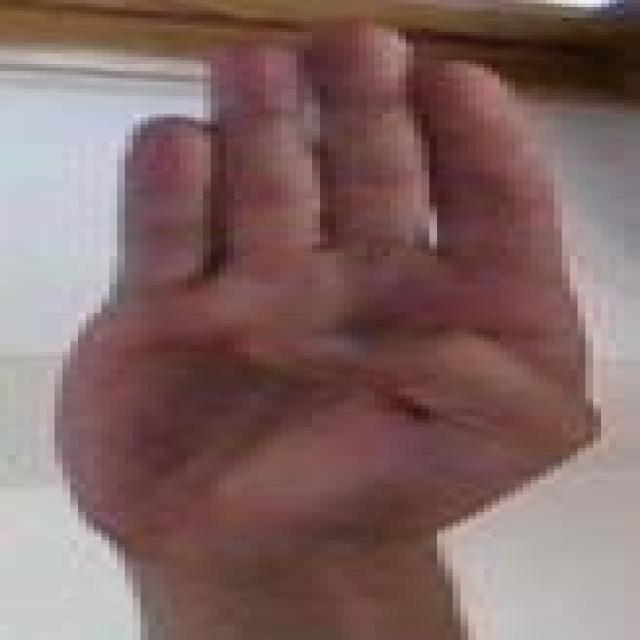B: (13, 7, 620, 628)
